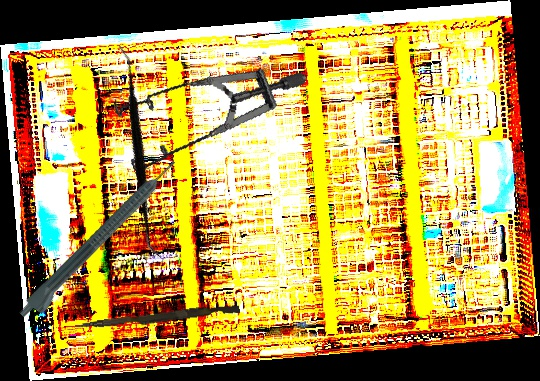Handpiece: (15, 156, 187, 327)
Pusher: (74, 300, 241, 336)
Spatula Surgical: (37, 43, 244, 260)
Speculum: (98, 31, 308, 209)
